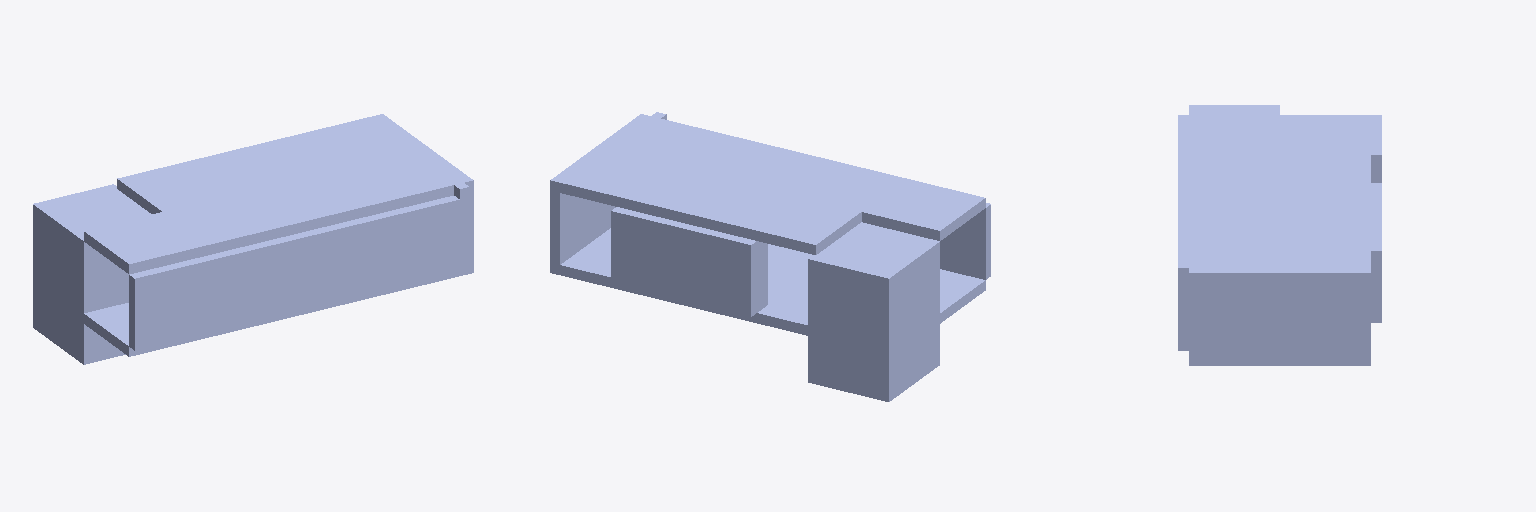
File: Room3_Battlements_Primiteves.obj
3 renders of one model, left to right at view 1: azimuth 30°, elevation 25°; view 2: azimuth 150°, elevation 25°; view 3: azimuth 270°, elevation 25°, orthographic.
Parts seen in each view (by area): view 1: Room3_Battlements_Primiteves; view 2: Room3_Battlements_Primiteves; view 3: Room3_Battlements_Primiteves.
Boxes of the visible parts, <box> form: Room3_Battlements_Primiteves: <box>33,114,473,364</box>; Room3_Battlements_Primiteves: <box>550,112,990,401</box>; Room3_Battlements_Primiteves: <box>1178,105,1381,365</box>.
Size of the model in its own units: 35 by 13 by 18.